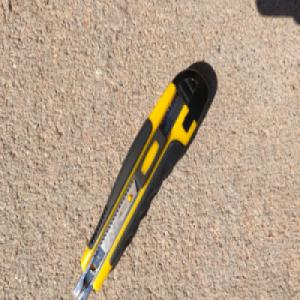Cutter: (71, 66, 210, 300)
